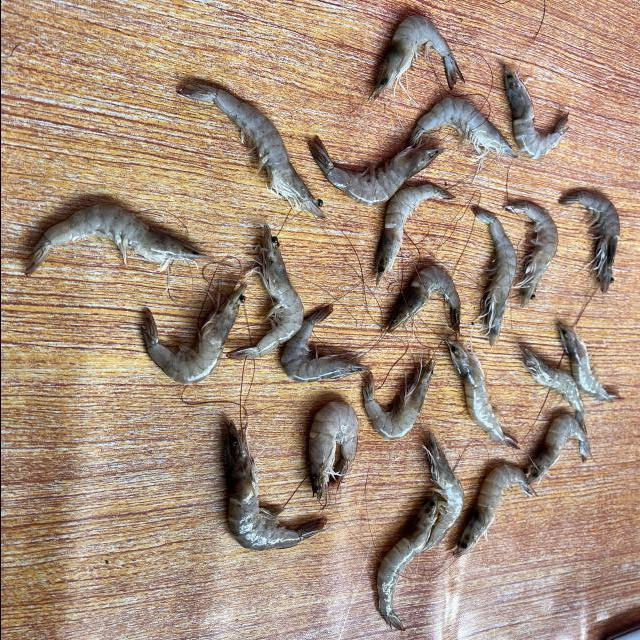shrimp: (177, 82, 324, 218), (224, 420, 325, 552), (24, 203, 209, 275), (140, 284, 245, 385), (226, 225, 302, 359), (308, 135, 443, 205), (376, 494, 437, 631), (445, 338, 519, 450), (369, 14, 463, 100), (375, 183, 454, 283), (408, 96, 518, 167), (453, 465, 535, 558), (280, 304, 370, 383), (559, 190, 620, 293), (472, 206, 516, 346), (361, 359, 435, 441), (504, 64, 568, 158), (504, 201, 558, 307), (421, 433, 464, 552), (558, 322, 620, 402), (308, 402, 358, 500), (387, 265, 460, 332), (526, 414, 590, 485), (521, 348, 584, 419)
